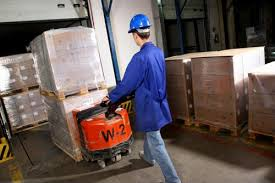Pallet Jack: (41, 95, 135, 171)
